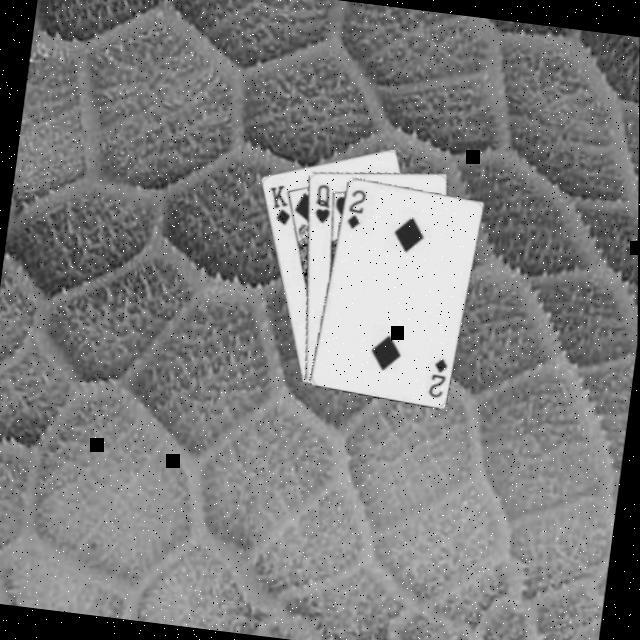2D: (343, 187, 370, 234), (427, 356, 452, 403)
KD: (263, 182, 297, 231)
QH: (310, 182, 337, 229)
